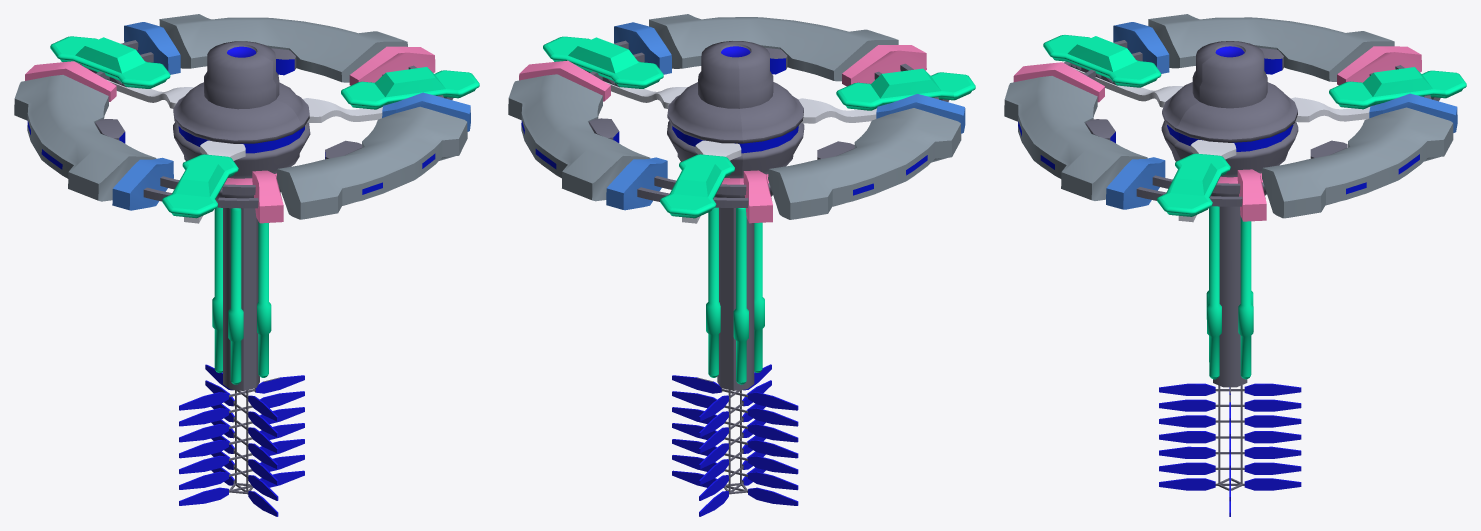
The model's file is SpaceStantion.fbx.
3 views of the same model, side by side, from view 1: azimuth 30°, elevation 25°; view 2: azimuth 150°, elevation 25°; view 3: azimuth 270°, elevation 25° (orthographic).
Parts seen in each view (by area): view 1: model; view 2: model; view 3: model.
Boxes of the visible parts, x1=… form: model: x1=14, y1=14, x2=479, y2=516; model: x1=508, y1=14, x2=975, y2=516; model: x1=1004, y1=14, x2=1466, y2=516.
Size of the model in its own units: 478 by 498 by 475.
